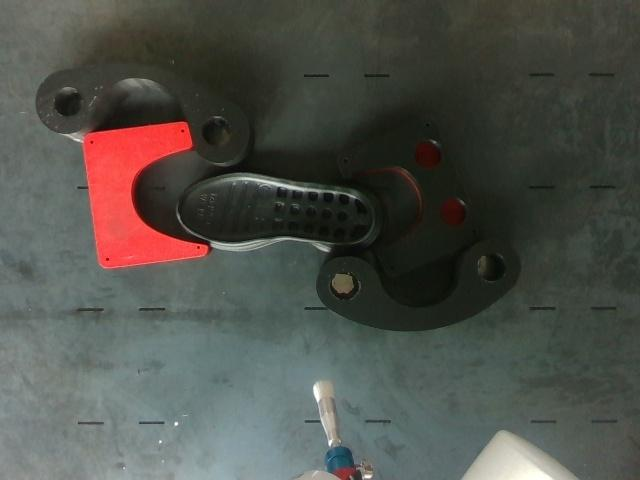shoes: (179, 176, 372, 243)
